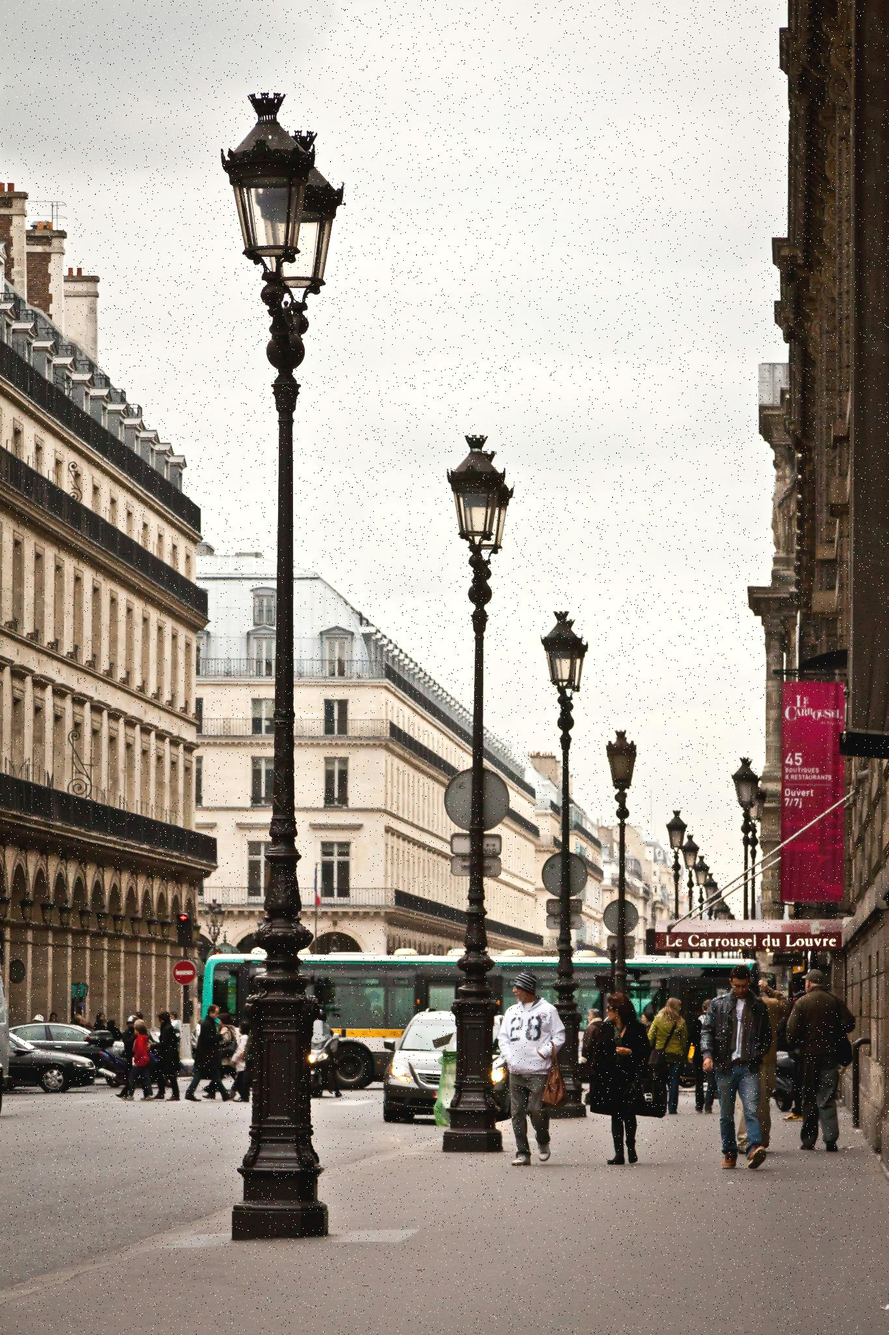car: (383, 1010, 456, 1122), (4, 1041, 93, 1097), (313, 1024, 382, 1093), (25, 1024, 97, 1056)
pedestrian: (785, 976, 858, 1160), (496, 967, 563, 1164), (586, 995, 649, 1169), (733, 962, 777, 1173), (709, 974, 751, 1175), (653, 995, 690, 1121), (188, 1003, 226, 1102), (697, 992, 716, 1113), (156, 1016, 181, 1103), (121, 1019, 147, 1102), (130, 1020, 155, 1104), (150, 1014, 169, 1102)
